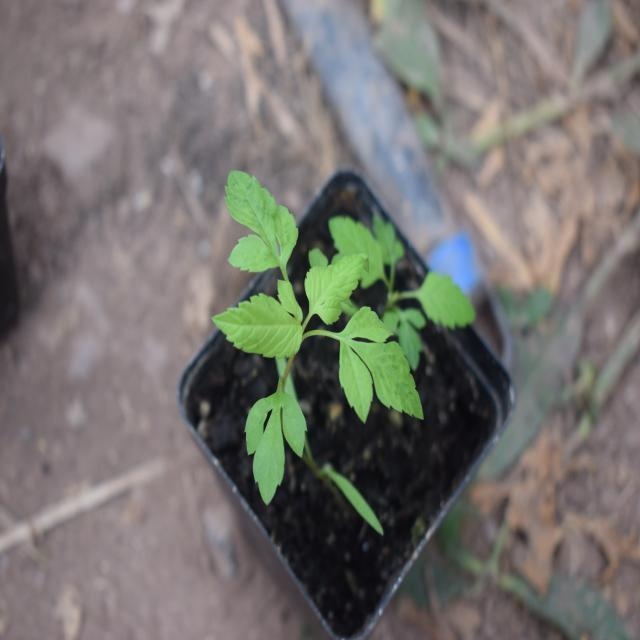Bidens pilosa: (199, 156, 428, 500)
